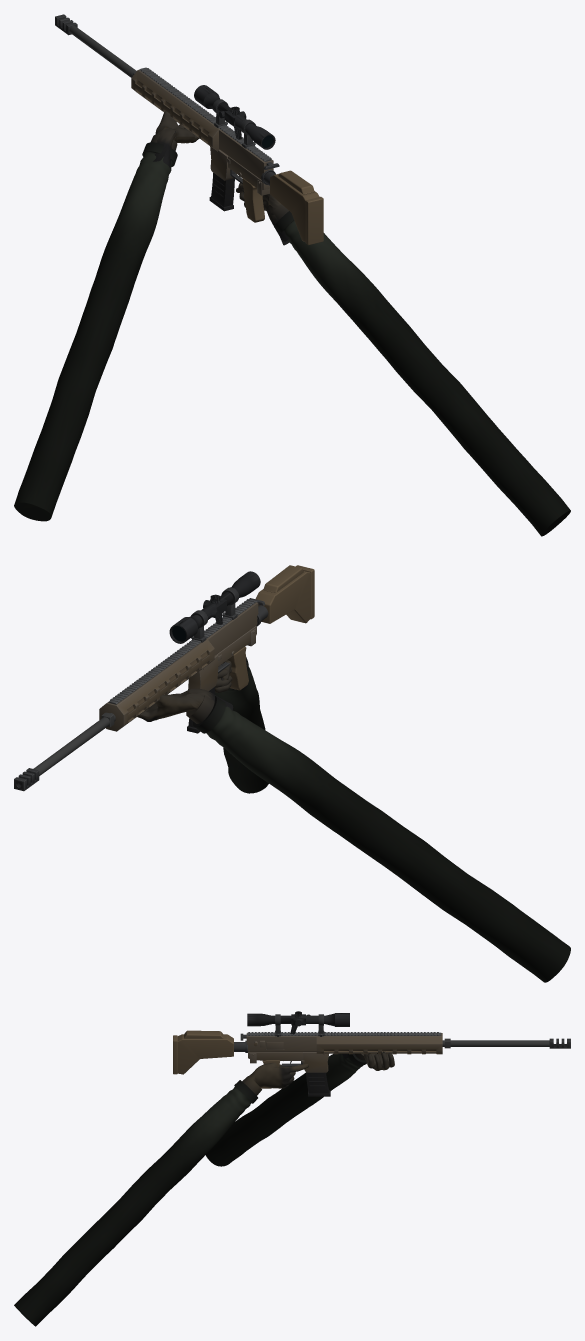
File: corvus.glb
3 views of the same model, one above another, from view 1: azimuth 30°, elevation 25°; view 2: azimuth 150°, elevation 25°; view 3: azimuth 270°, elevation 25° (orthographic). The views are drawn at different scales.
Parts seen in each view (by area): view 1: arms_L_corvus, arms_R_corvus, base, dressing, mag; view 2: arms_L_corvus, base, dressing, arms_R_corvus; view 3: arms_R_corvus, base, arms_L_corvus, dressing, mag.
Boxes of the visible parts, x1,y1,x2,y2 form: arms_L_corvus: (14,111,199,521); arms_R_corvus: (236,183,570,536); base: (131,67,323,244); dressing: (55,14,275,149); mag: (209,172,234,211); arms_L_corvus: (137,688,570,982); base: (99,565,314,731); dressing: (14,571,260,791); arms_R_corvus: (215,657,268,793); arms_R_corvus: (14,1063,308,1326); base: (173,1030,442,1088); arms_L_corvus: (205,1051,394,1166); dressing: (247,1011,570,1048); mag: (306,1072,330,1096).
Bounding box in the file's own units: 1.16 × 0.8648 × 1.68.
